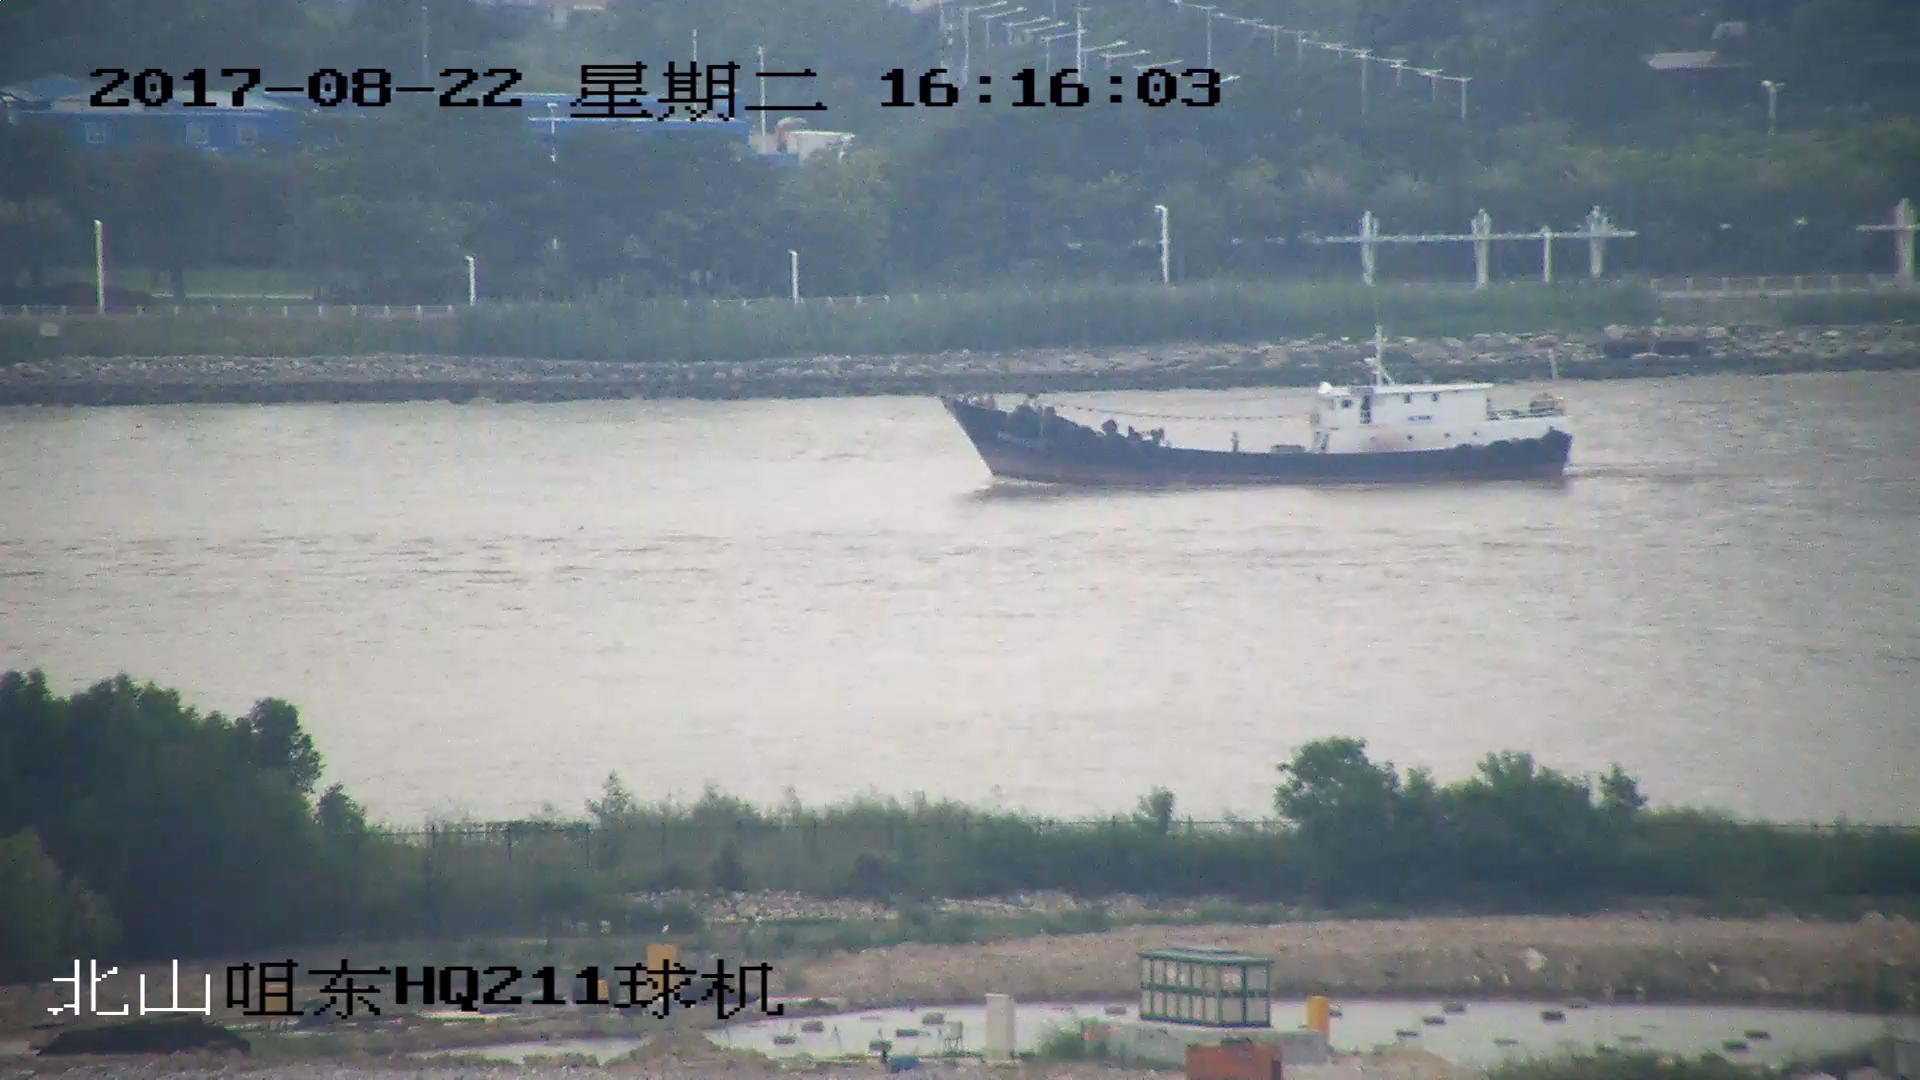fishing boat: (949, 327, 1573, 491)
